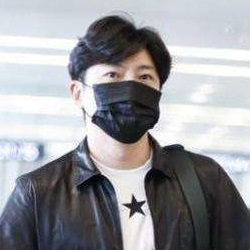mask: (74, 79, 160, 142)
